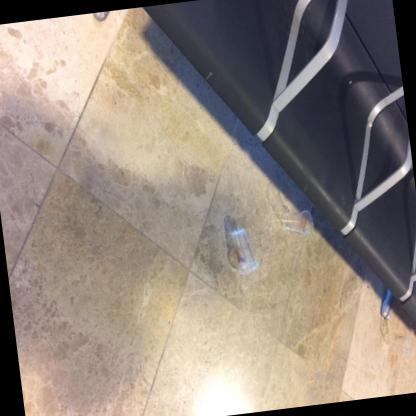Plastic: (230, 227, 257, 274), (280, 210, 311, 235)
